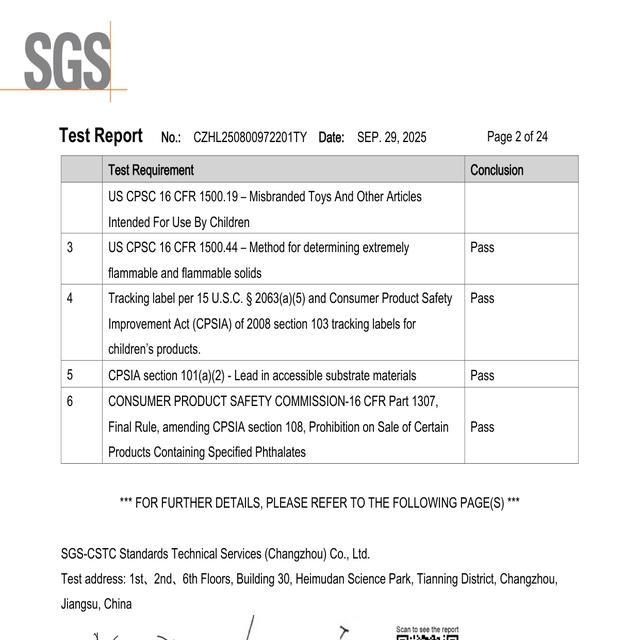sgs: (26, 32, 111, 90)
